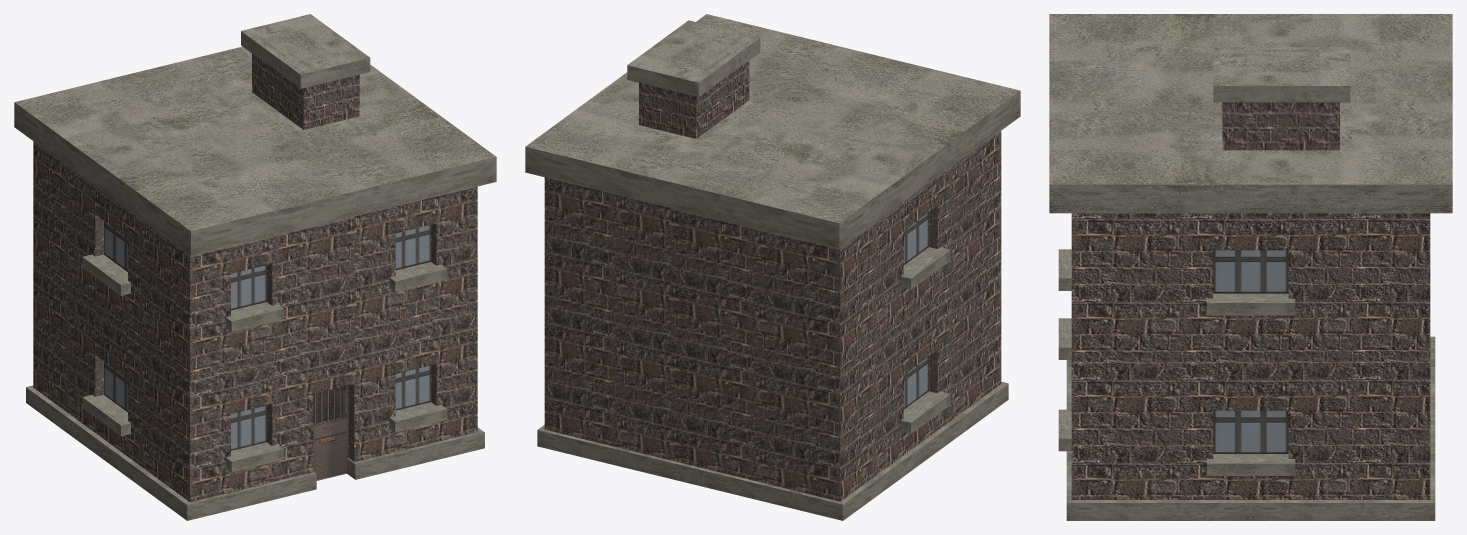
Rendered from Building02A1.fbx.
3 views of the same model, side by side, from view 1: azimuth 30°, elevation 25°; view 2: azimuth 150°, elevation 25°; view 3: azimuth 270°, elevation 25° (orthographic). The views are drawn at different scales.
Parts seen in each view (by area): view 1: UB; view 2: UB; view 3: UB.
Part boxes in pixels (x1,y1,x2,y2): UB: (14,14,496,520); UB: (525,14,1020,520); UB: (1049,14,1452,520).
Size of the model in its own units: 3.22 by 3.57 by 3.21.
